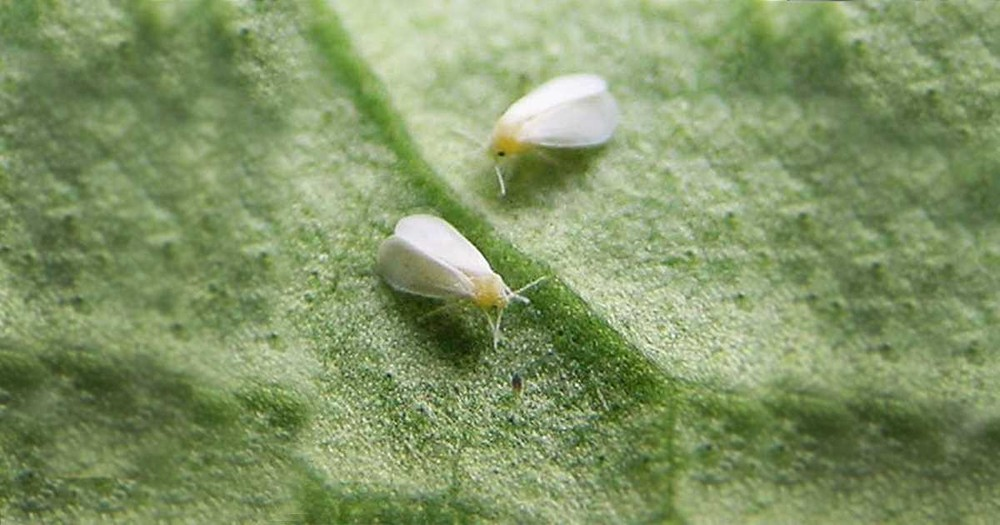Mosca Blanca: (366, 199, 557, 372), (454, 59, 632, 216)
